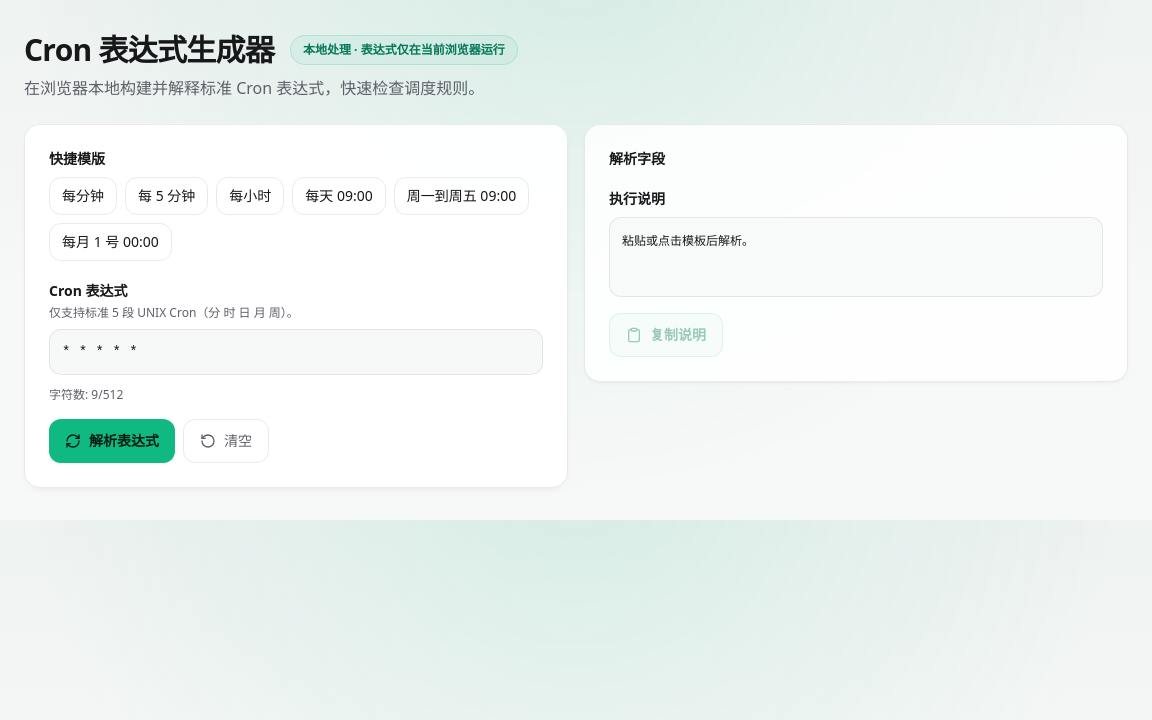
CronGeneratorClient › reports format errors for wrong field count
Step 1. Replace the text in the field labelled "Cron 表达式" with "0 9 * *" → coordinates (296, 352), box [49, 329, 543, 375]
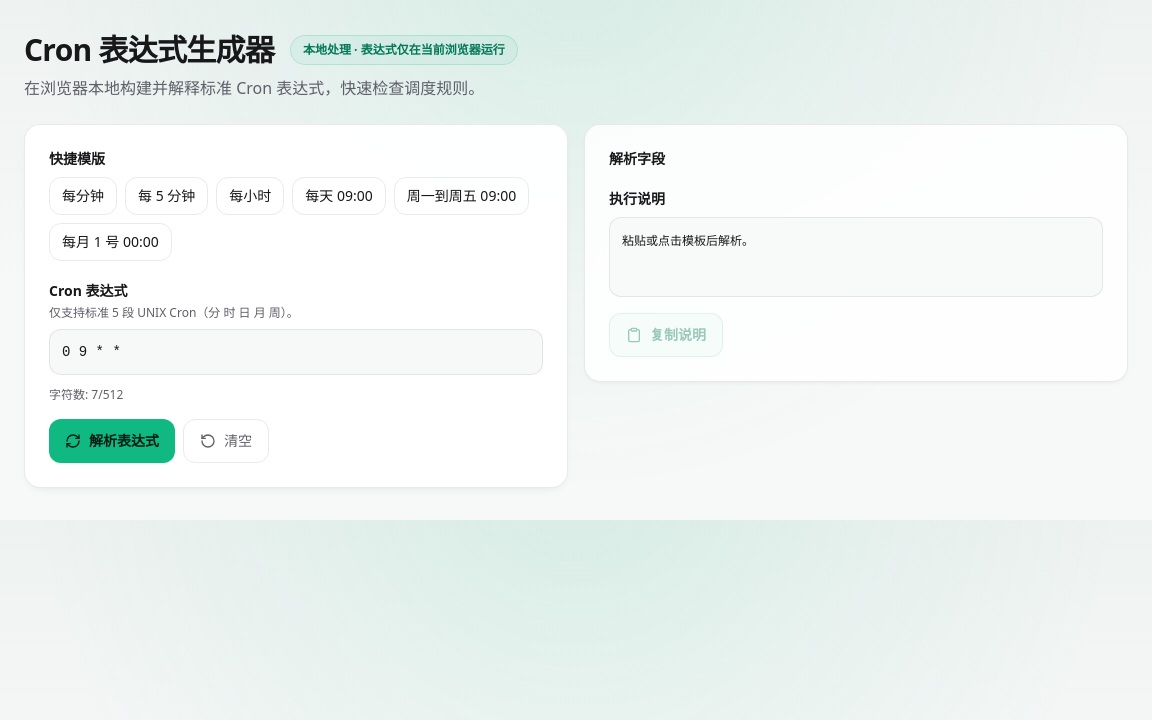
Step 2. Click the button "解析表达式" → coordinates (112, 441), box [49, 419, 175, 463]
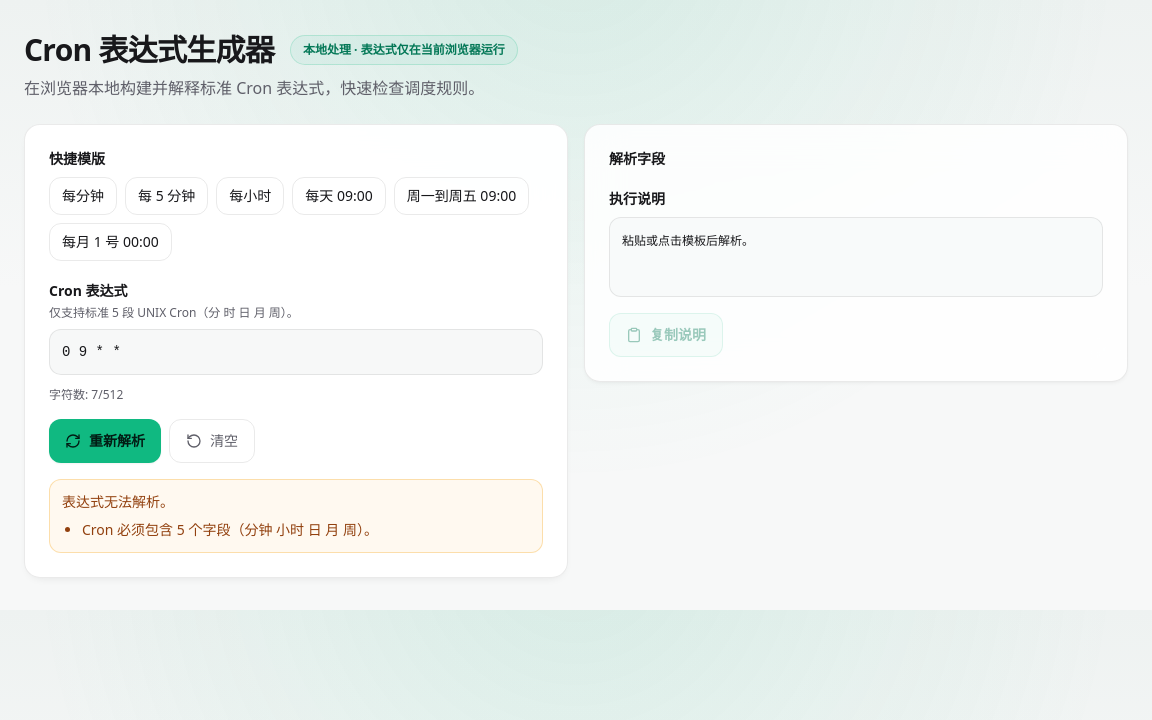
Expected: the text "表达式无法解析。" is shown, [62, 492, 174, 511]
Expected: the list item "Cron 必须包含 5 个字段（分钟 小时 日 月 周）。" is shown, [82, 520, 378, 539]
